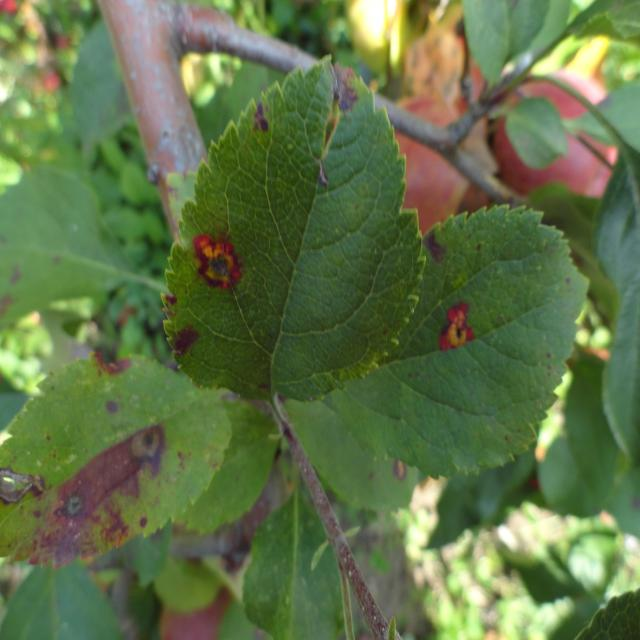Rust: (424, 262, 495, 391), (185, 224, 254, 317)
